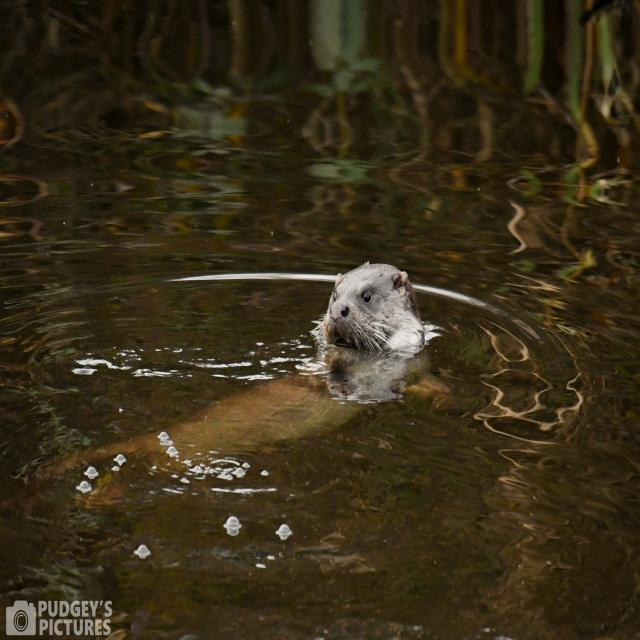otter: (326, 263, 424, 354)
